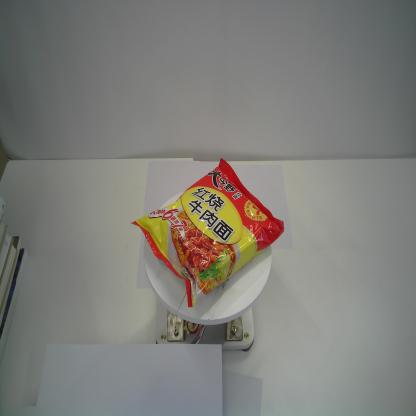Instant Noodles: (130, 156, 286, 308)
